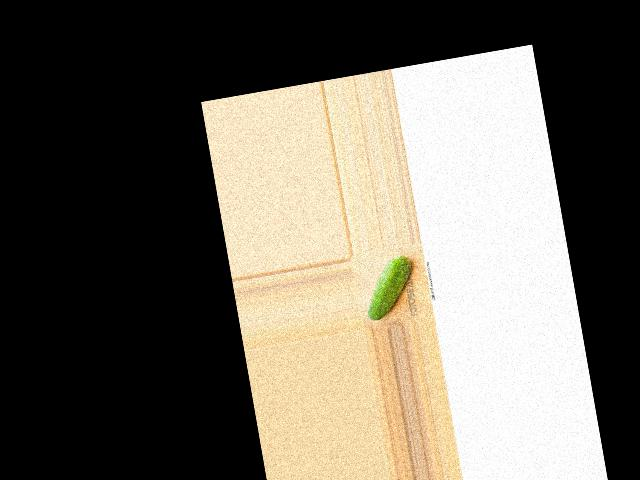cucumber: (358, 252, 419, 321)
